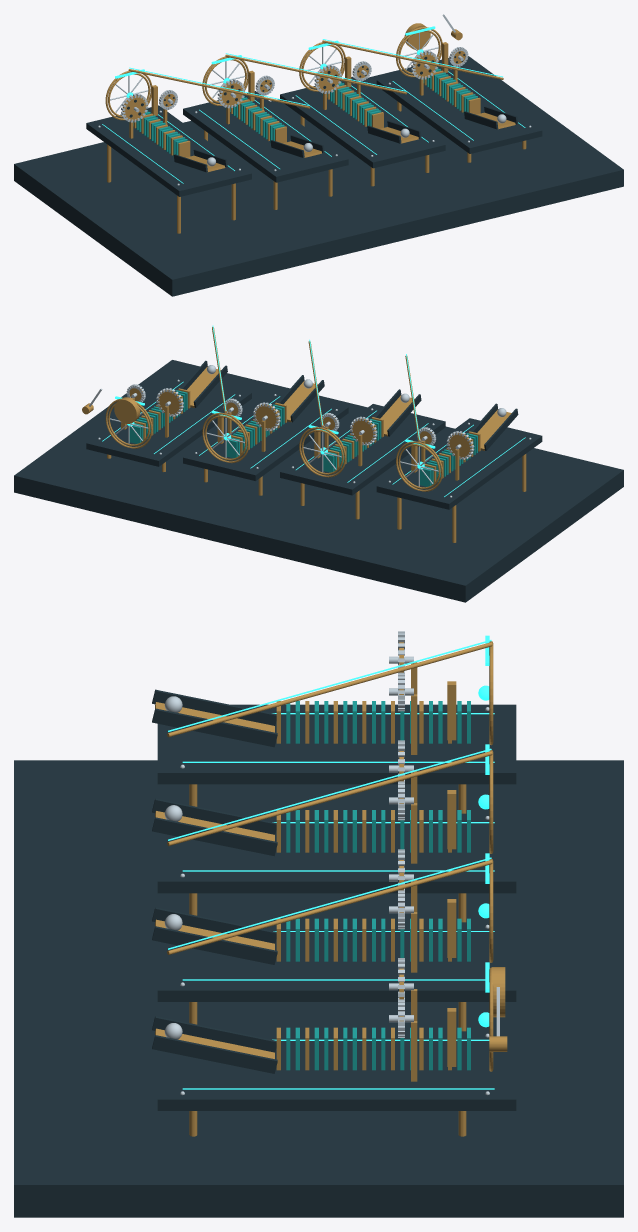
Rendered from cascade.glb.
3 renders of one model, top to bottom at view 1: azimuth 30°, elevation 25°; view 2: azimuth 150°, elevation 25°; view 3: azimuth 270°, elevation 25°, orthographic. The views are drawn at different scales.
Parts seen in each view (by area): view 1: Obsidian exhibition plinth, Stage 0 deck, Stage 1 deck, Stage 3 deck, Stage 2 deck, Relay bridge, Relay bridge.001, Relay bridge.002, Final brass resonance bell, Flywheel; view 2: Obsidian exhibition plinth, Stage 0 deck, Stage 2 deck, Stage 1 deck, Stage 3 deck, Final brass resonance bell, Inclined marble chute, Inclined marble chute.003, Inclined marble chute.002, Inclined marble chute.001, Flywheel, Flywheel.004; view 3: Obsidian exhibition plinth, Stage 3 deck, Stage 1 deck, Stage 2 deck, Stage 0 deck, Chute sidewall.007, Chute sidewall.003, Chute sidewall.005, Chute sidewall.001, Relay bridge, Relay bridge.001, Relay bridge.002 (+4 smaller).
Part boxes in pixels (x1,y1,x2,y2): Obsidian exhibition plinth: (14,56,623,296); Stage 0 deck: (86,105,251,196); Stage 1 deck: (183,91,348,182); Stage 3 deck: (376,62,542,153); Stage 2 deck: (280,76,445,168); Relay bridge: (128,69,310,108); Relay bridge.001: (225,54,406,94); Relay bridge.002: (322,40,503,79); Final brass resonance bell: (404,23,430,49); Flywheel: (122,95,146,120); Obsidian exhibition plinth: (14,360,623,602); Stage 0 deck: (376,418,542,509); Stage 2 deck: (183,389,348,480); Stage 1 deck: (280,404,445,495); Stage 3 deck: (86,375,251,466); Final brass resonance bell: (114,397,140,423); Inclined marble chute: (477,409,511,450); Inclined marble chute.003: (187,366,220,407); Inclined marble chute.002: (283,381,317,422); Inclined marble chute.001: (380,395,414,436); Flywheel: (448,433,472,458); Flywheel.004: (254,404,278,429); Obsidian exhibition plinth: (14,760,623,1217); Stage 3 deck: (157,1031,516,1110); Stage 1 deck: (157,813,516,893); Stage 2 deck: (157,922,516,1001); Stage 0 deck: (157,704,516,784); Chute sidewall.007: (152,1035,277,1073); Chute sidewall.003: (152,817,277,856); Chute sidewall.005: (152,926,277,964); Chute sidewall.001: (152,708,277,747); Relay bridge: (167,642,492,737); Relay bridge.001: (167,751,492,846); Relay bridge.002: (167,860,492,954).
Size of the model in its own units: 28 by 7.04 by 17.
